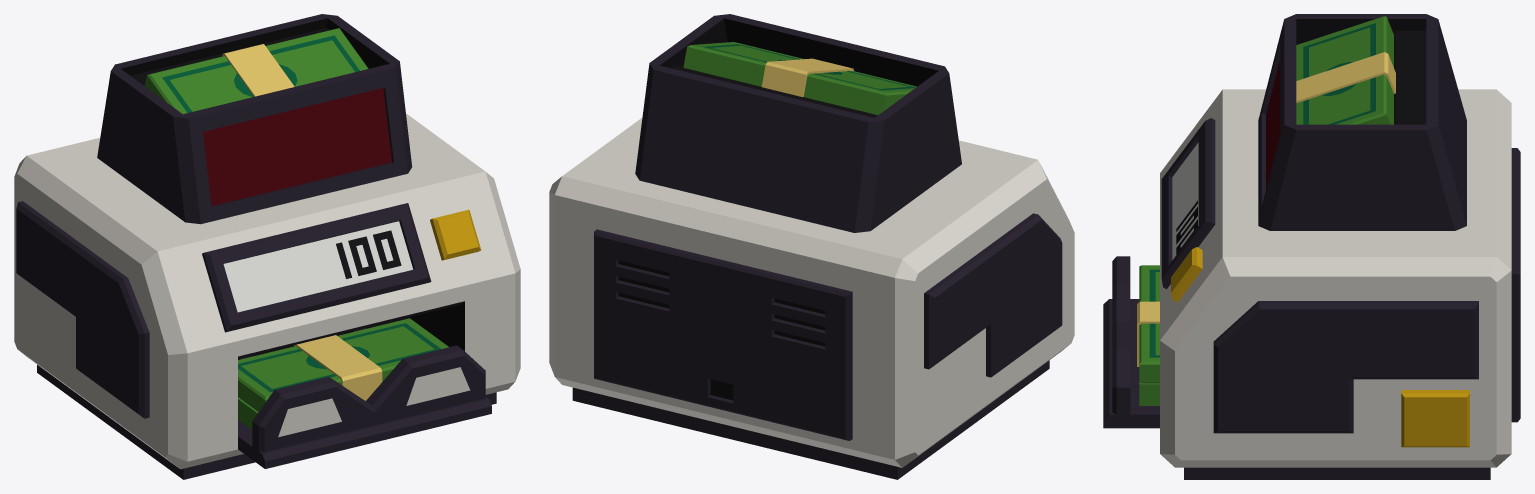
Rendered from cash-counting-machine-1f6eca.glb.
3 views of the same model, side by side, from view 1: azimuth 30°, elevation 25°; view 2: azimuth 150°, elevation 25°; view 3: azimuth 270°, elevation 25° (orthographic). The views are drawn at different scales.
Visible parts, largest first — view 1: body, hopper-notes-strap, stacker-wad-notes; view 2: body, hopper-notes-strap; view 3: body, hopper-notes-strap, stacker-wad-notes.
Part boxes in pixels (x1,y1,x2,y2): body: (14,14,520,479); hopper-notes-strap: (144,28,368,113); stacker-wad-notes: (238,318,448,429); body: (549,14,1074,479); hopper-notes-strap: (683,42,916,114); body: (1103,14,1520,479); hopper-notes-strap: (1296,16,1395,124); stacker-wad-notes: (1137,265,1159,405).
Bounding box in the file's own units: 0.3 × 0.2502 × 0.28.
